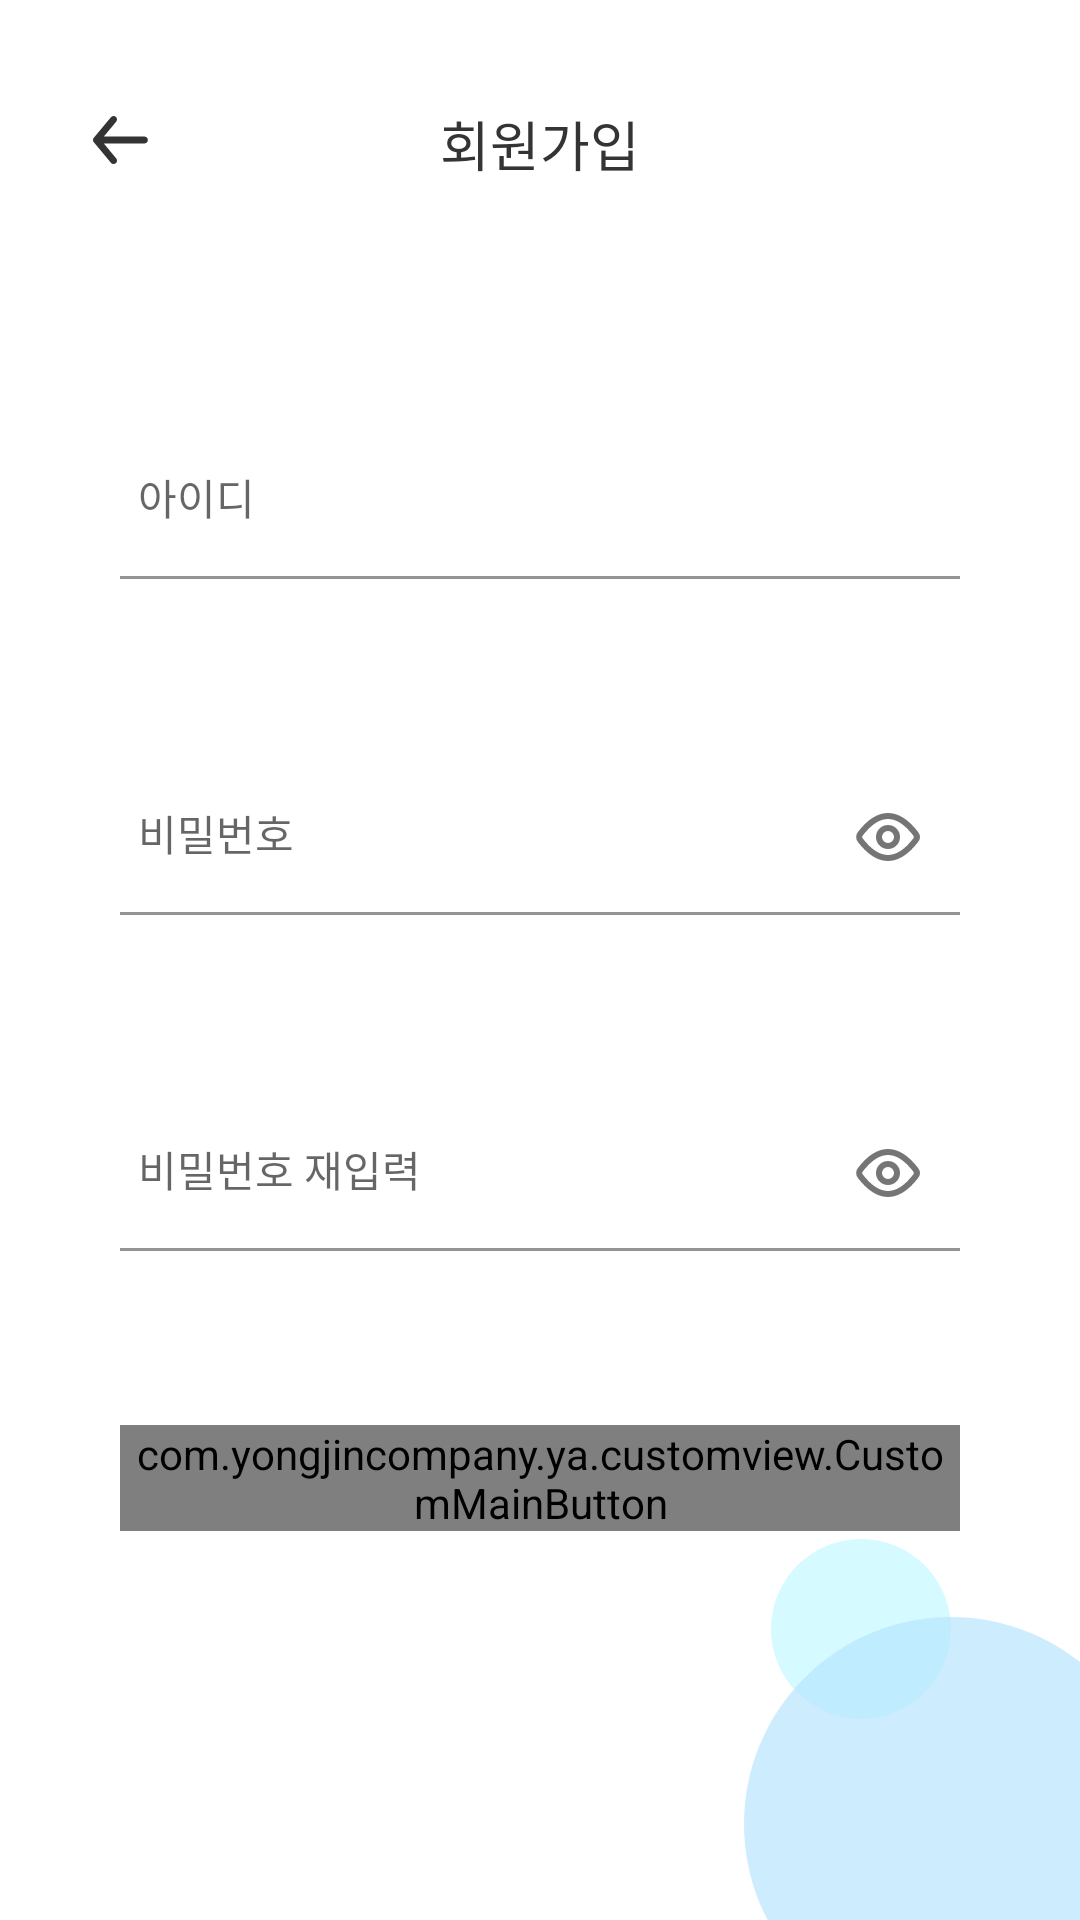

Named icons in this screenshot (1080x1920) and their bounding boxes, (x1, y1, x2, y2):
back: (93, 116, 148, 164)
